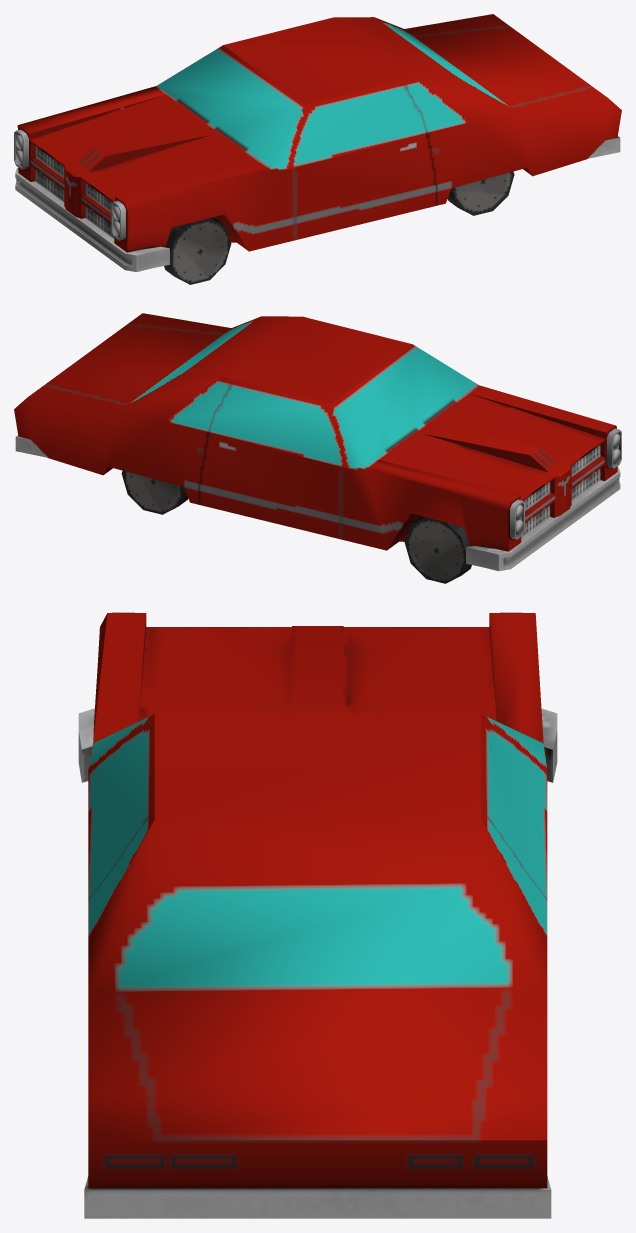
Rendered from Pontiac.glb.
The picture shows the model from 3 angles, top to bottom: view 1: azimuth 30°, elevation 25°; view 2: azimuth 150°, elevation 25°; view 3: azimuth 270°, elevation 25°; orthographic projection. The views are drawn at different scales.
Parts seen in each view (by area): view 1: Box002; view 2: Box002; view 3: Box002.
Boxes of the visible parts, <box> form: Box002: <box>14,14,621,284</box>; Box002: <box>14,313,621,583</box>; Box002: <box>78,612,557,1218</box>.
Size of the model in its own units: 2.93 by 0.7841 by 1.22.
1 material, 1 textured.
